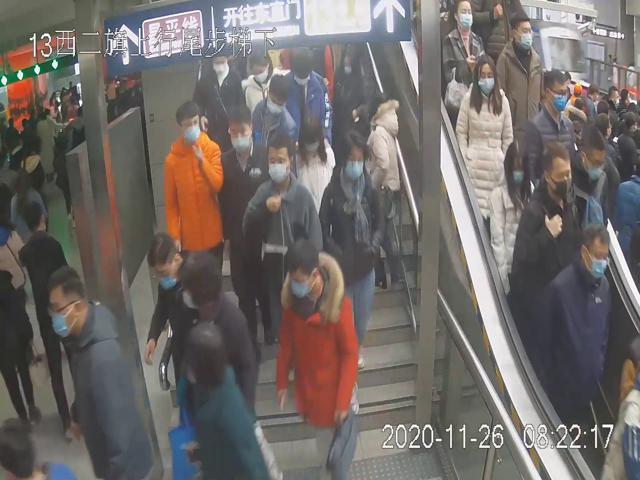person: (275, 235, 364, 480), (543, 222, 616, 454), (318, 128, 386, 374), (511, 139, 585, 352), (241, 131, 324, 311), (161, 99, 224, 271), (454, 51, 514, 227), (216, 104, 275, 248), (366, 88, 406, 293), (485, 138, 537, 295), (495, 8, 543, 156), (523, 67, 577, 189), (284, 108, 341, 203), (280, 48, 331, 139), (443, 2, 483, 109), (251, 72, 293, 164), (195, 51, 240, 128), (238, 48, 285, 120), (331, 48, 369, 137)
